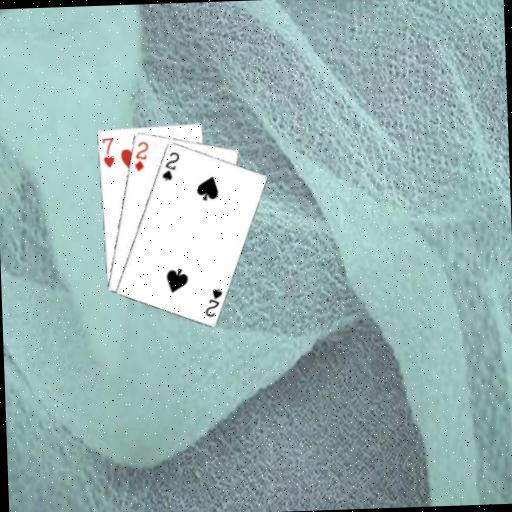2D: (130, 138, 150, 173)
2S: (158, 148, 181, 182), (201, 285, 224, 318)
7H: (98, 133, 115, 169)
